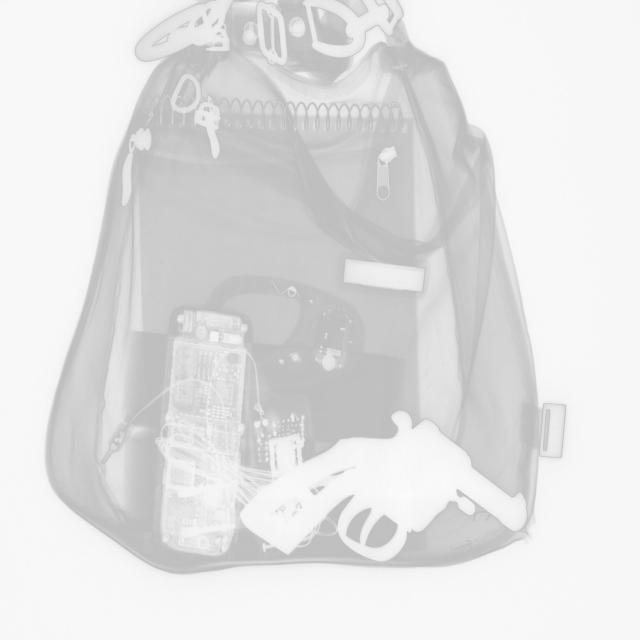pistol: (241, 412, 529, 560)
